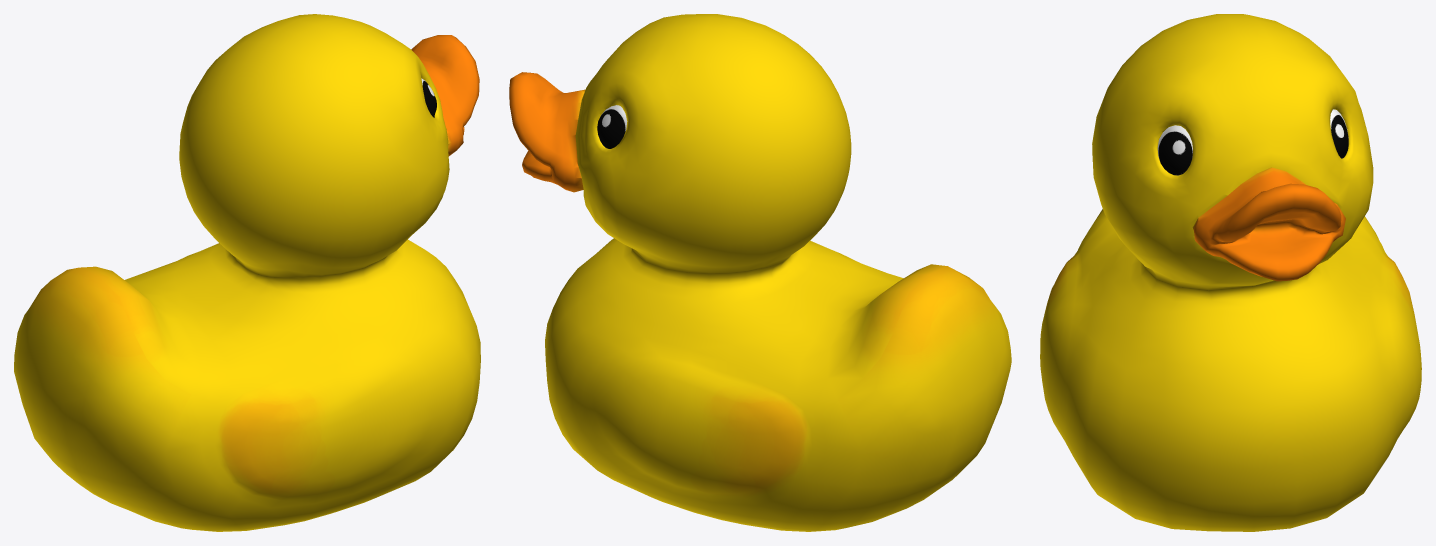
The model's file is duck_triangulate.obj.
3 renders of one model, left to right at view 1: azimuth 30°, elevation 25°; view 2: azimuth 150°, elevation 25°; view 3: azimuth 270°, elevation 25°, orthographic. The views are drawn at different scales.
Visible parts, largest first — view 1: LOD3sp; view 2: LOD3sp; view 3: LOD3sp.
Boxes of the visible parts, <box> form: LOD3sp: <box>14,14,480,531</box>; LOD3sp: <box>509,14,1011,531</box>; LOD3sp: <box>1040,14,1421,531</box>.
Size of the model in its own units: 165 by 154 by 115.
Materials: 1 (1 with a texture image).
